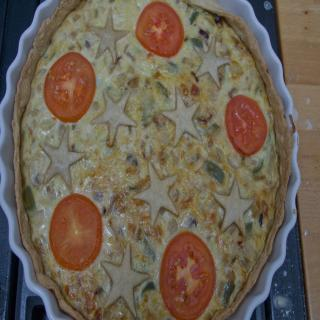tomato: (158, 232, 214, 320), (49, 194, 102, 272), (43, 52, 95, 123), (226, 96, 268, 159), (132, 9, 188, 49)
